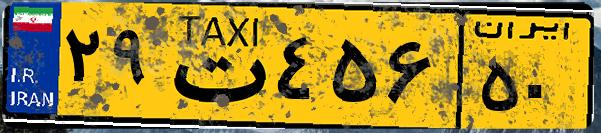0: (525, 38, 570, 115)
2: (57, 26, 110, 100)
4: (270, 28, 330, 110)
5: (330, 28, 385, 110), (475, 38, 525, 113)
6: (385, 28, 445, 110)
9: (110, 28, 158, 98)
ت: (158, 12, 270, 120)
